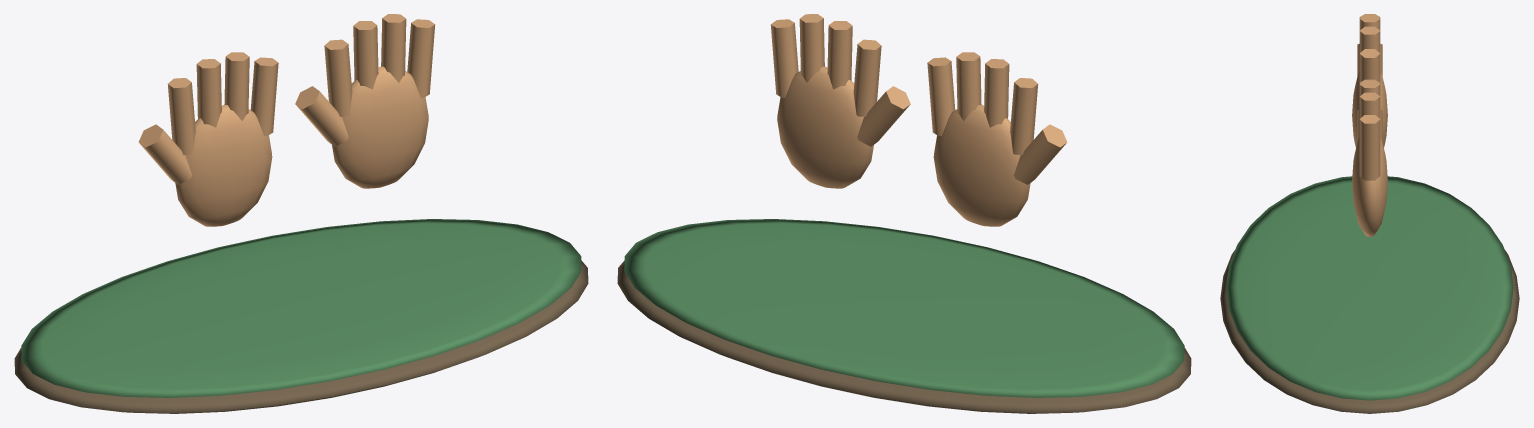
Rendered from pair-hands.glb.
The picture shows the model from 3 angles, left to right: view 1: azimuth 30°, elevation 25°; view 2: azimuth 150°, elevation 25°; view 3: azimuth 270°, elevation 25°; orthographic projection. The views are drawn at different scales.
Visible parts, largest first — view 1: pair-hands_surface_01, pair-hands_surface_02, pair-hands_surface_00; view 2: pair-hands_surface_01, pair-hands_surface_02, pair-hands_surface_00; view 3: pair-hands_surface_01, pair-hands_surface_02, pair-hands_surface_00.
Boxes of the visible parts, x1,y1,x2,y2 form: pair-hands_surface_01: [21, 219, 581, 397]; pair-hands_surface_02: [138, 14, 435, 226]; pair-hands_surface_00: [14, 260, 588, 413]; pair-hands_surface_01: [624, 219, 1184, 397]; pair-hands_surface_02: [770, 14, 1067, 226]; pair-hands_surface_00: [617, 260, 1191, 413]; pair-hands_surface_01: [1226, 176, 1513, 400]; pair-hands_surface_02: [1352, 14, 1387, 236]; pair-hands_surface_00: [1220, 249, 1519, 413].
Size of the model in its own units: 4.56 by 2.35 by 2.5.
